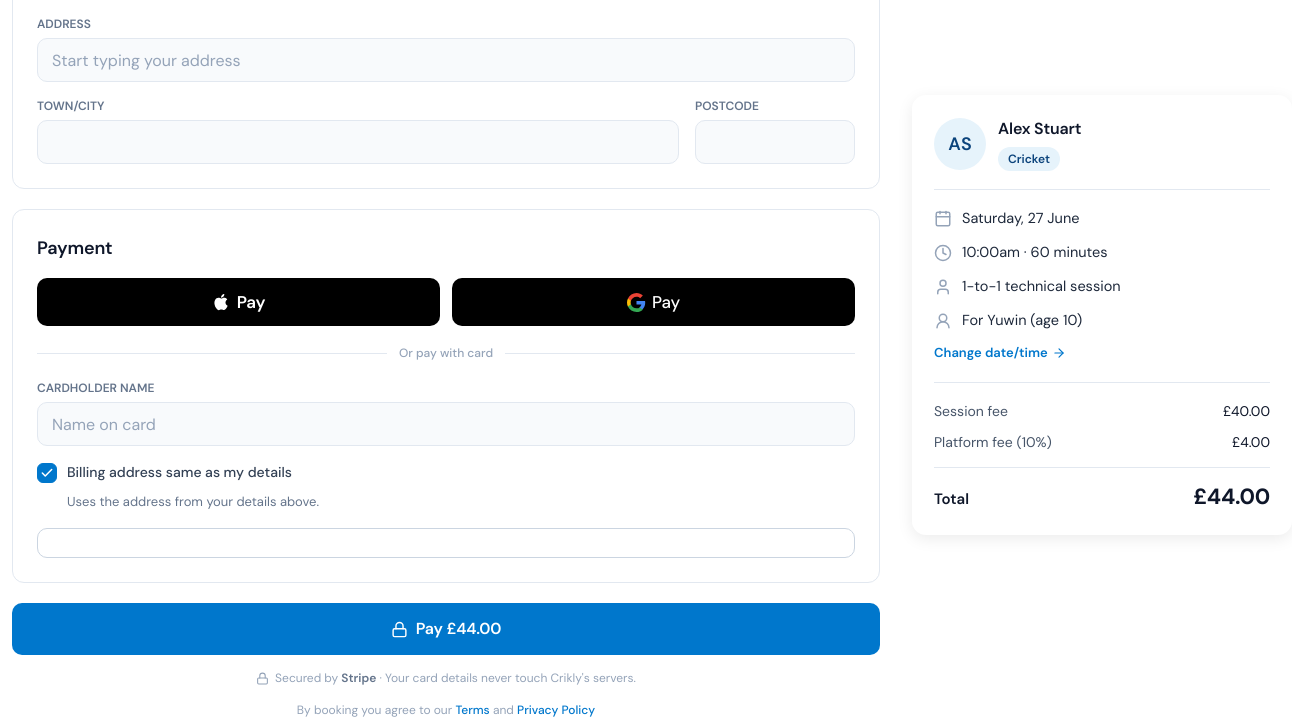
Test: GuestBookingFlow — handlePay success › shows the confirmation view after handlePay resolves successfully
(page scrolled)
Click the button with test id "pay-button".
click(446, 629)  # box [12,603,880,655]
(page scrolled)
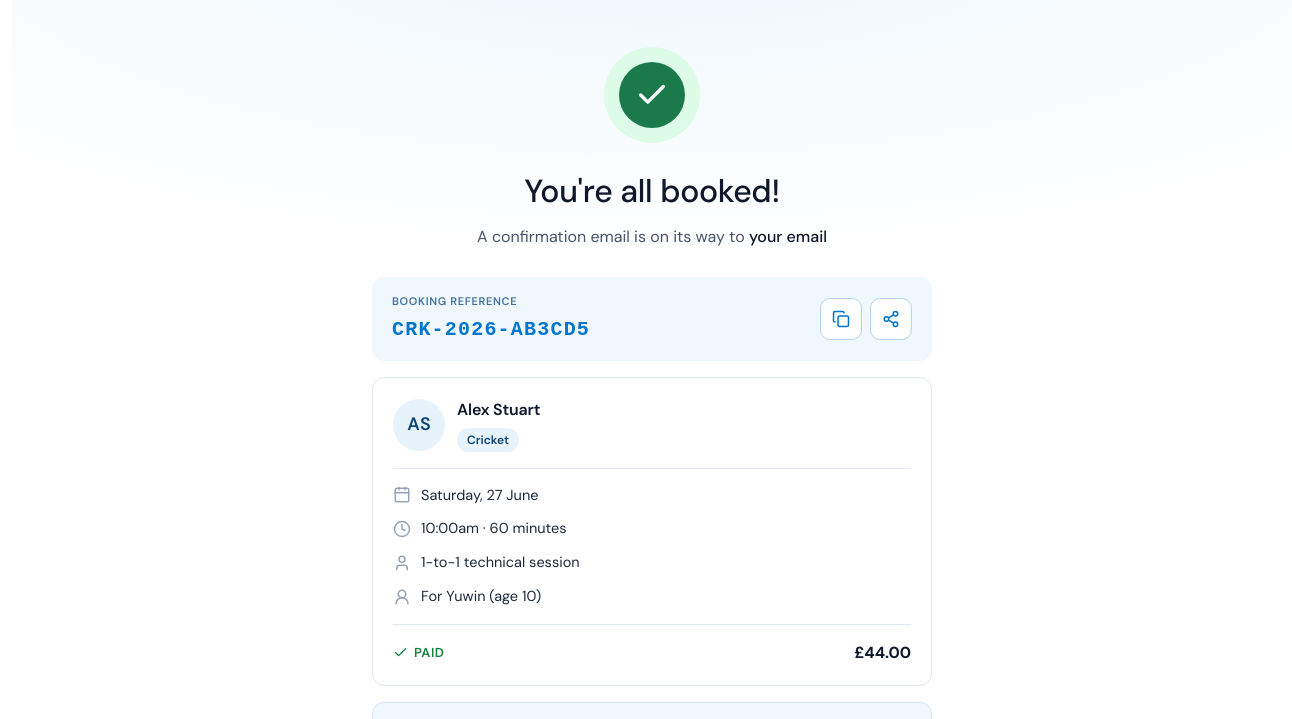
Result: the heading "You're all booked!" is shown at [524,167,780,215]
